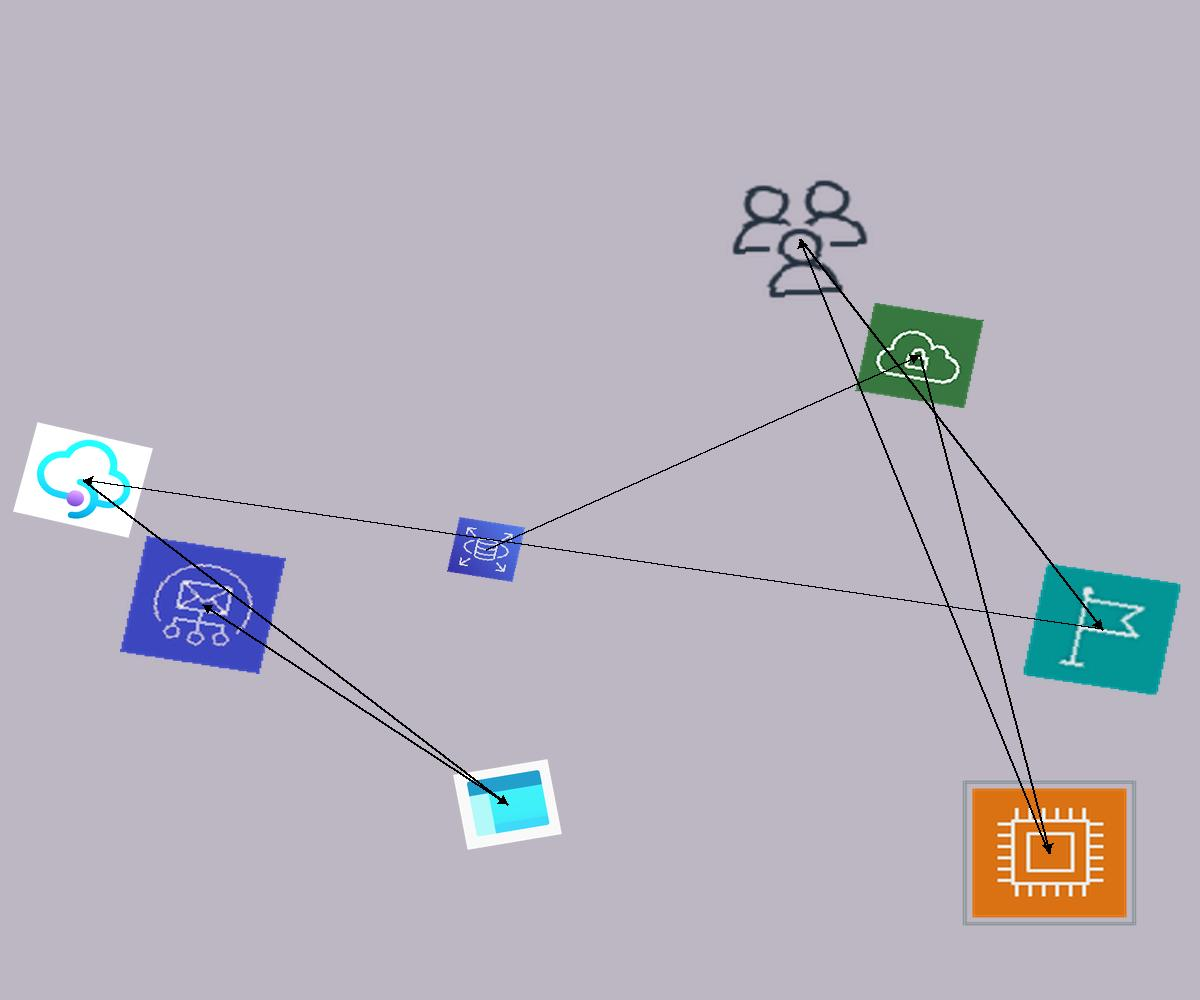AWS-Category_Compute: (961, 779, 1138, 927)
AWS-Private_vpc: (855, 302, 984, 409)
AWS-RDS: (447, 517, 525, 582)
AWS-Region: (1022, 563, 1182, 696)
AWS-Res_Users: (721, 173, 879, 305)
AWS-Simple-Email-Service: (120, 536, 286, 674)
Azure_api_gateway: (13, 422, 153, 538)
Azure_management-portal: (453, 759, 562, 850)
